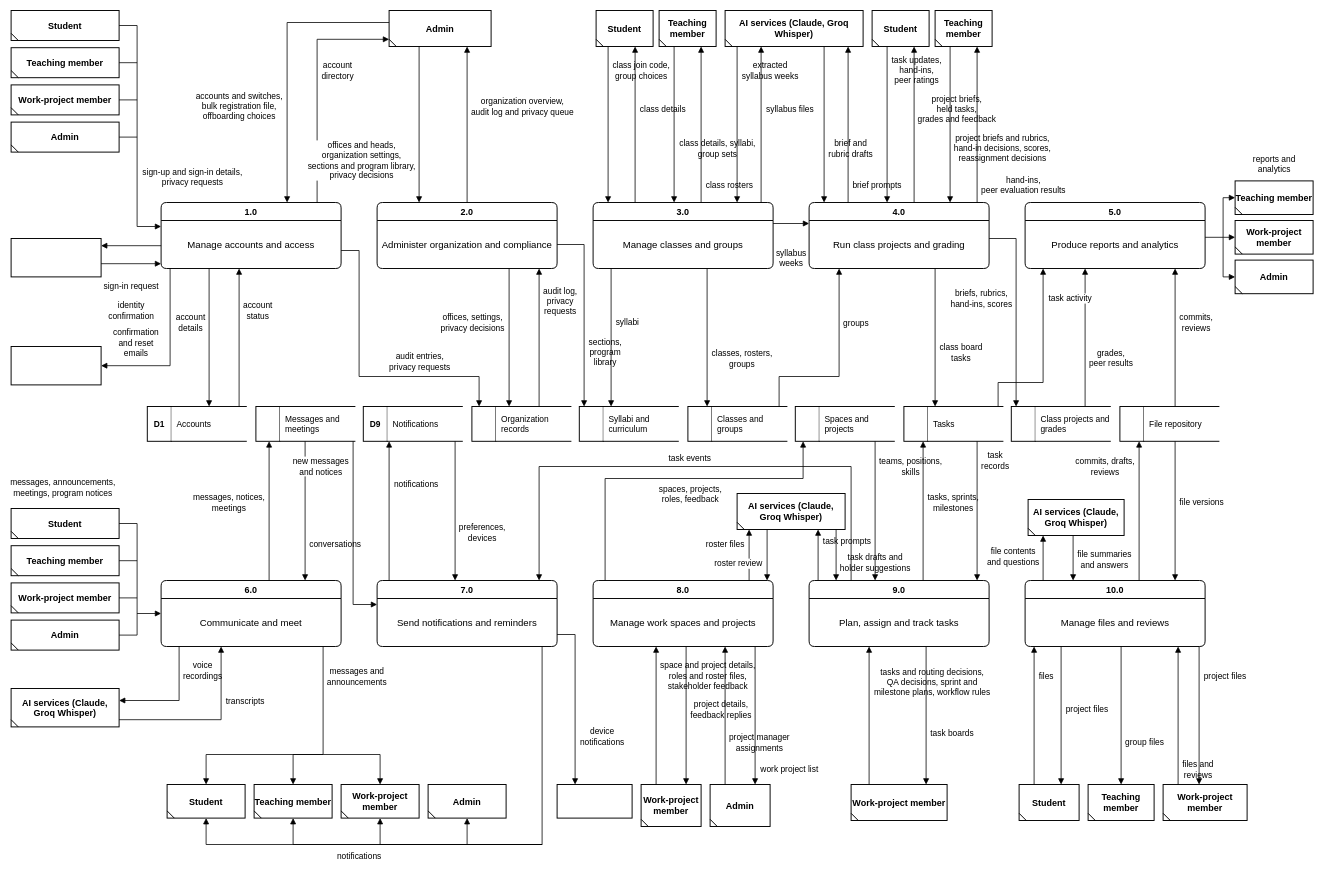
This 1324x872 diagram has some shape labels left out. Each missing label, with the box of its shape:
D10: (471, 406, 496, 441)
D2: (687, 406, 712, 441)
D3: (579, 406, 603, 441)
D4: (1011, 406, 1035, 441)
D5: (795, 406, 819, 441)
D6: (903, 406, 928, 441)
D7: (1119, 406, 1144, 441)
D8: (255, 406, 280, 441)
Email service (Brevo): (10, 346, 101, 385)
Microsoft sign-in: (10, 238, 101, 277)
OneSignal: (556, 784, 632, 818)
